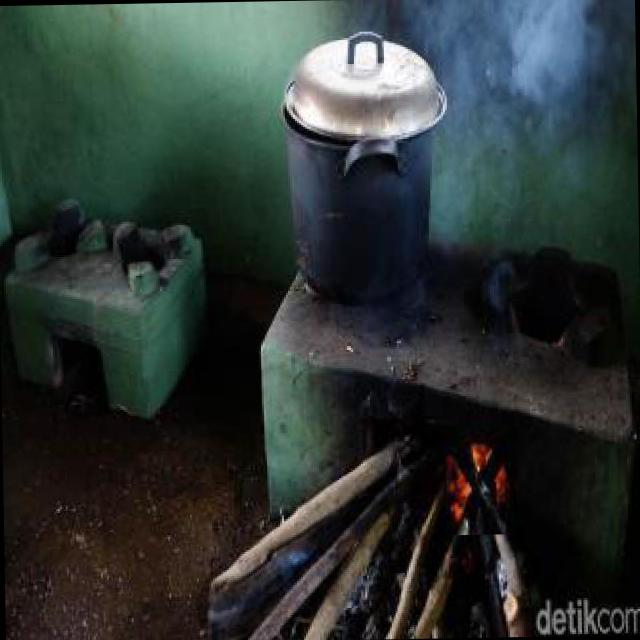fire: (444, 424, 518, 534)
